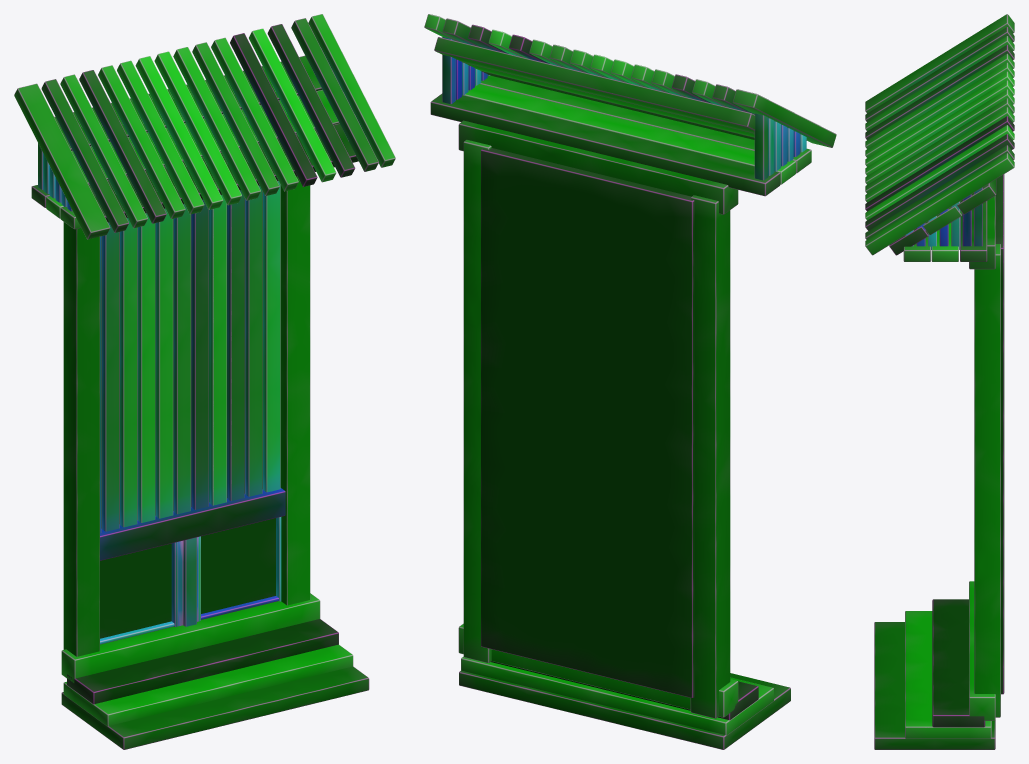
File: door_400x350_01.fbx
3 views of the same model, side by side, from view 1: azimuth 30°, elevation 25°; view 2: azimuth 150°, elevation 25°; view 3: azimuth 270°, elevation 25° (orthographic). The views are drawn at different scales.
Visible parts, largest first — view 1: door_400x350_01; view 2: door_400x350_01; view 3: door_400x350_01.
Part boxes in pixels (x1,y1,x2,y2): door_400x350_01: [14, 14, 395, 749]; door_400x350_01: [424, 14, 836, 749]; door_400x350_01: [865, 14, 1014, 749].
Bounding box in the file's own units: 1.55 × 2.94 × 0.6597.
